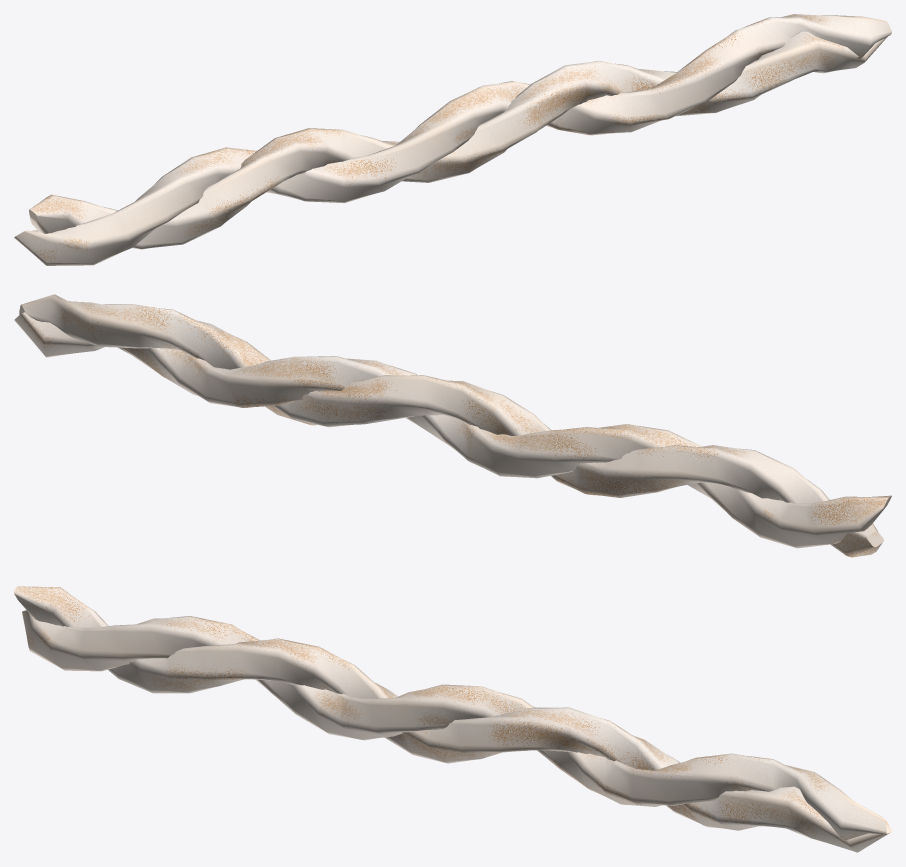
Rendered from cremaa.fbx.
3 views of the same model, one above another, from view 1: azimuth 30°, elevation 25°; view 2: azimuth 150°, elevation 25°; view 3: azimuth 330°, elevation 25° (orthographic).
Visible parts, largest first — view 1: sweep2, sweep1; view 2: sweep2, sweep1; view 3: sweep2, sweep1.
Part boxes in pixels (x1,y1,x2,y2): sweep2: (14,14,891,265); sweep1: (29,31,887,249); sweep2: (19,294,883,557); sweep1: (14,312,891,548); sweep2: (22,610,886,840); sweep1: (14,586,891,852).
Size of the model in its own units: 35.22 by 3.07 by 2.56.
Materials: 1 (1 with a texture image).
